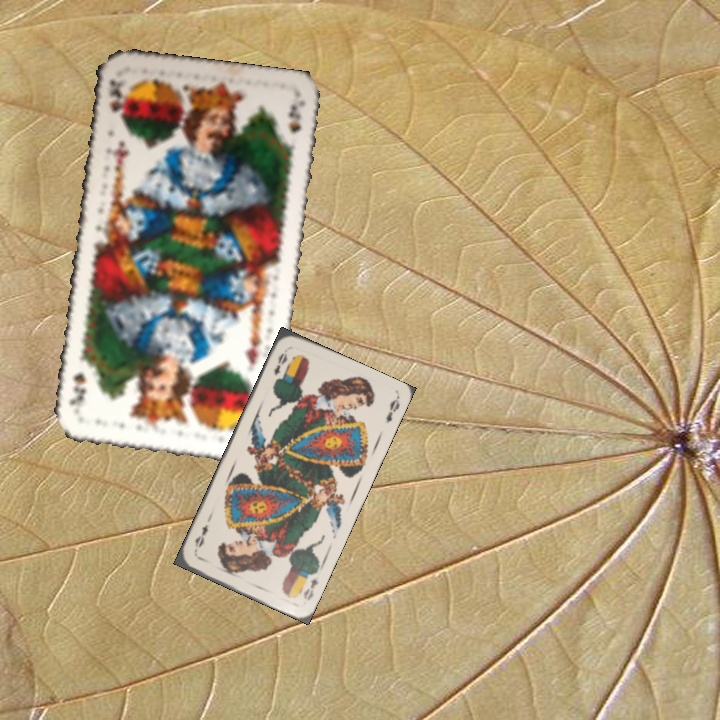EO: (299, 572, 321, 603), (270, 349, 290, 378)
SK: (105, 74, 127, 124)
